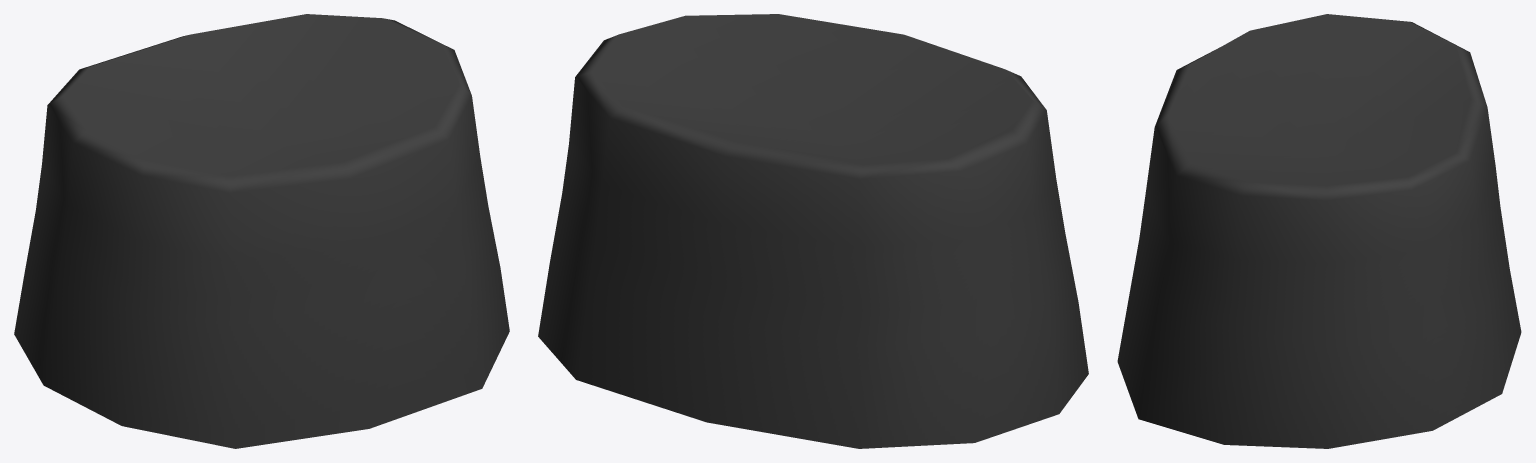
The model's file is Bottom_33.fbx.
3 views of the same model, side by side, from view 1: azimuth 30°, elevation 25°; view 2: azimuth 150°, elevation 25°; view 3: azimuth 270°, elevation 25° (orthographic). The views are drawn at different scales.
Visible parts, largest first — view 1: Bottom_33; view 2: Bottom_33; view 3: Bottom_33.
Part boxes in pixels (box(x1,y1,x2,y2)): Bottom_33: box(14, 14, 509, 448); Bottom_33: box(538, 14, 1088, 448); Bottom_33: box(1117, 14, 1521, 448).
Bounding box in the file's own units: 44.44 × 25.55 × 35.63.
